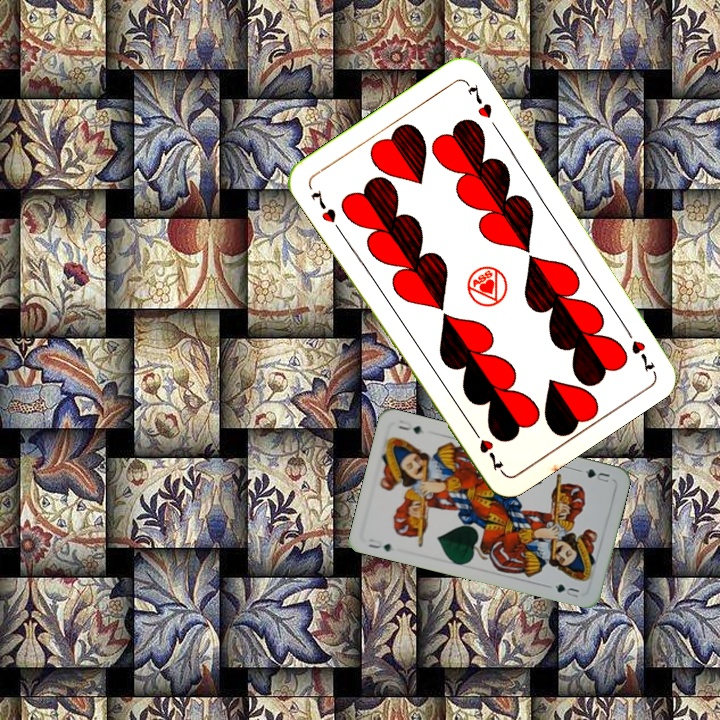GU: (575, 465, 612, 485), (364, 535, 394, 554)
H7: (620, 322, 658, 374), (306, 186, 344, 235)
